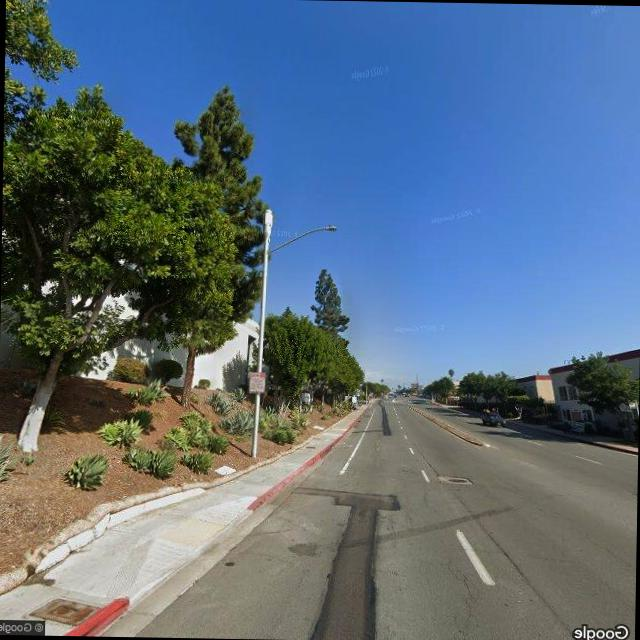crack: (446, 557, 479, 618)
